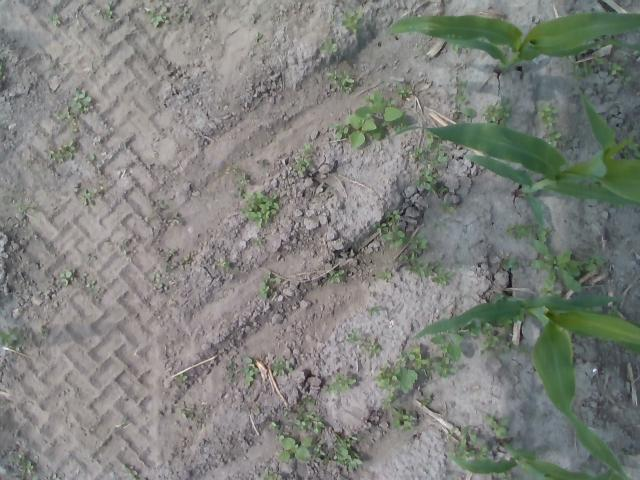Maize: (412, 293, 640, 480), (378, 95, 640, 210), (388, 10, 640, 74), (447, 439, 616, 480)
Weeds: (346, 91, 411, 149), (372, 346, 432, 408), (529, 239, 583, 297), (400, 252, 465, 287), (468, 322, 530, 357), (567, 52, 632, 85), (273, 431, 329, 463), (236, 188, 280, 228), (445, 426, 488, 461), (412, 129, 448, 166), (374, 210, 408, 249), (293, 395, 326, 435), (332, 433, 364, 471), (536, 103, 562, 148), (432, 330, 464, 362), (346, 328, 380, 358), (504, 221, 550, 243), (482, 96, 511, 128), (413, 168, 448, 194), (290, 143, 314, 178), (322, 372, 356, 396), (12, 452, 40, 480), (324, 69, 354, 94), (44, 140, 76, 162), (485, 411, 510, 439), (340, 5, 364, 34), (390, 406, 416, 432), (0, 325, 25, 352), (257, 270, 281, 298), (431, 356, 458, 380), (51, 108, 76, 133), (618, 136, 640, 161), (70, 89, 92, 113), (242, 356, 259, 386), (272, 355, 294, 377), (146, 6, 168, 26), (583, 252, 605, 271), (84, 272, 100, 296), (330, 121, 350, 140), (318, 38, 338, 56), (408, 233, 428, 250), (120, 464, 140, 480), (452, 106, 478, 118), (501, 256, 519, 272), (80, 187, 96, 205), (8, 202, 33, 213), (148, 271, 164, 288), (260, 469, 283, 480), (395, 84, 413, 98), (491, 471, 517, 480), (449, 91, 467, 104), (327, 270, 345, 283), (440, 201, 456, 214), (378, 269, 392, 283), (59, 269, 72, 284), (177, 406, 190, 420), (268, 420, 282, 432), (454, 76, 466, 90), (46, 14, 60, 26), (236, 171, 248, 185), (608, 304, 620, 317), (510, 312, 524, 323), (368, 306, 382, 317), (282, 408, 292, 423), (450, 42, 462, 54), (218, 258, 230, 270), (104, 4, 112, 20), (250, 237, 264, 246), (602, 340, 614, 350), (418, 48, 427, 60), (176, 374, 188, 382), (0, 53, 4, 76), (254, 32, 262, 40), (41, 327, 50, 334), (52, 473, 61, 480), (328, 13, 336, 20), (166, 264, 173, 272), (170, 248, 176, 254), (148, 216, 154, 221), (464, 293, 470, 298)
